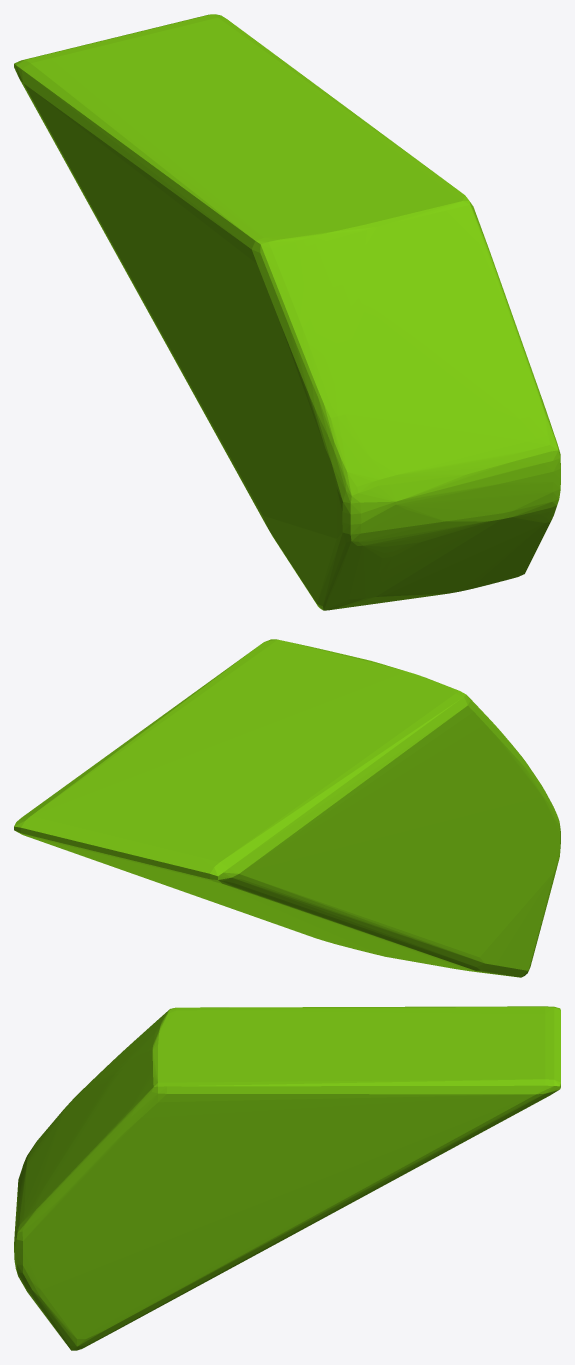
The model's file is right-toe-roll-0_part_4.obj.
The picture shows the model from 3 angles, top to bottom: view 1: azimuth 30°, elevation 25°; view 2: azimuth 150°, elevation 25°; view 3: azimuth 270°, elevation 25°; orthographic projection. The views are drawn at different scales.
Size of the model in its own units: 0.022 by 0.0337 by 0.0617.
